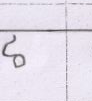e_matra: (0, 34, 16, 57)
